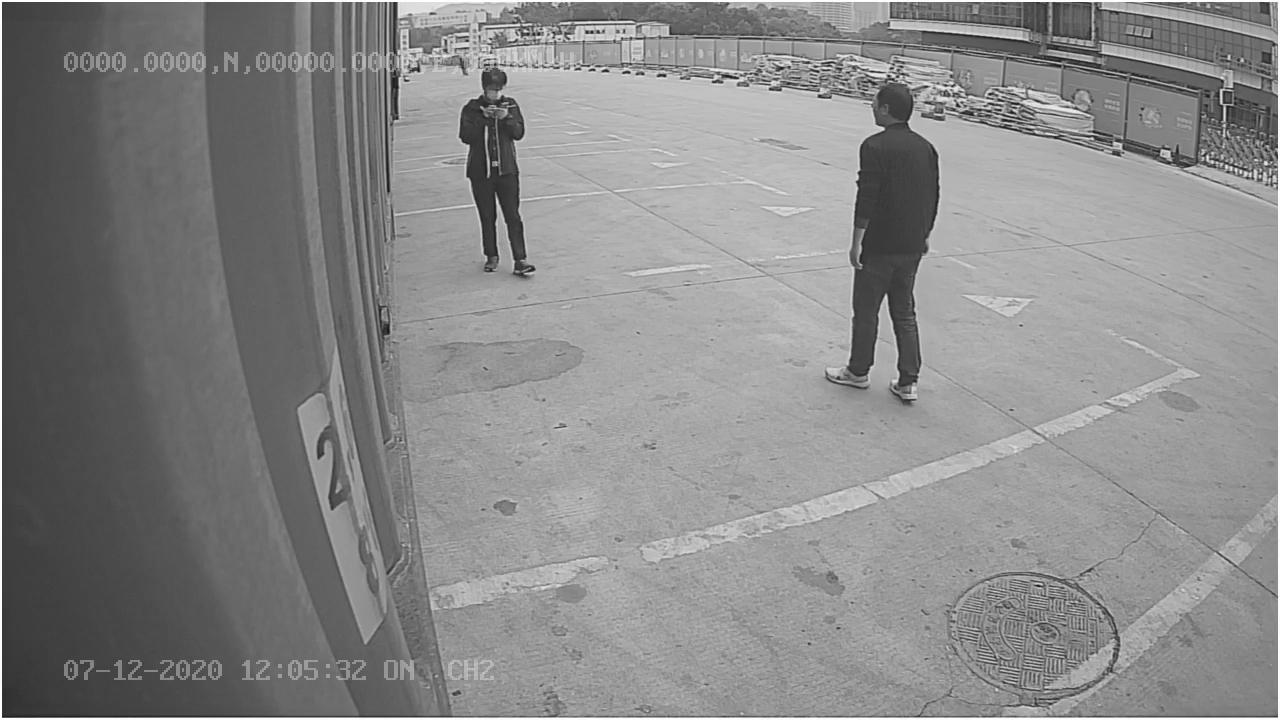person: (817, 78, 945, 405)
